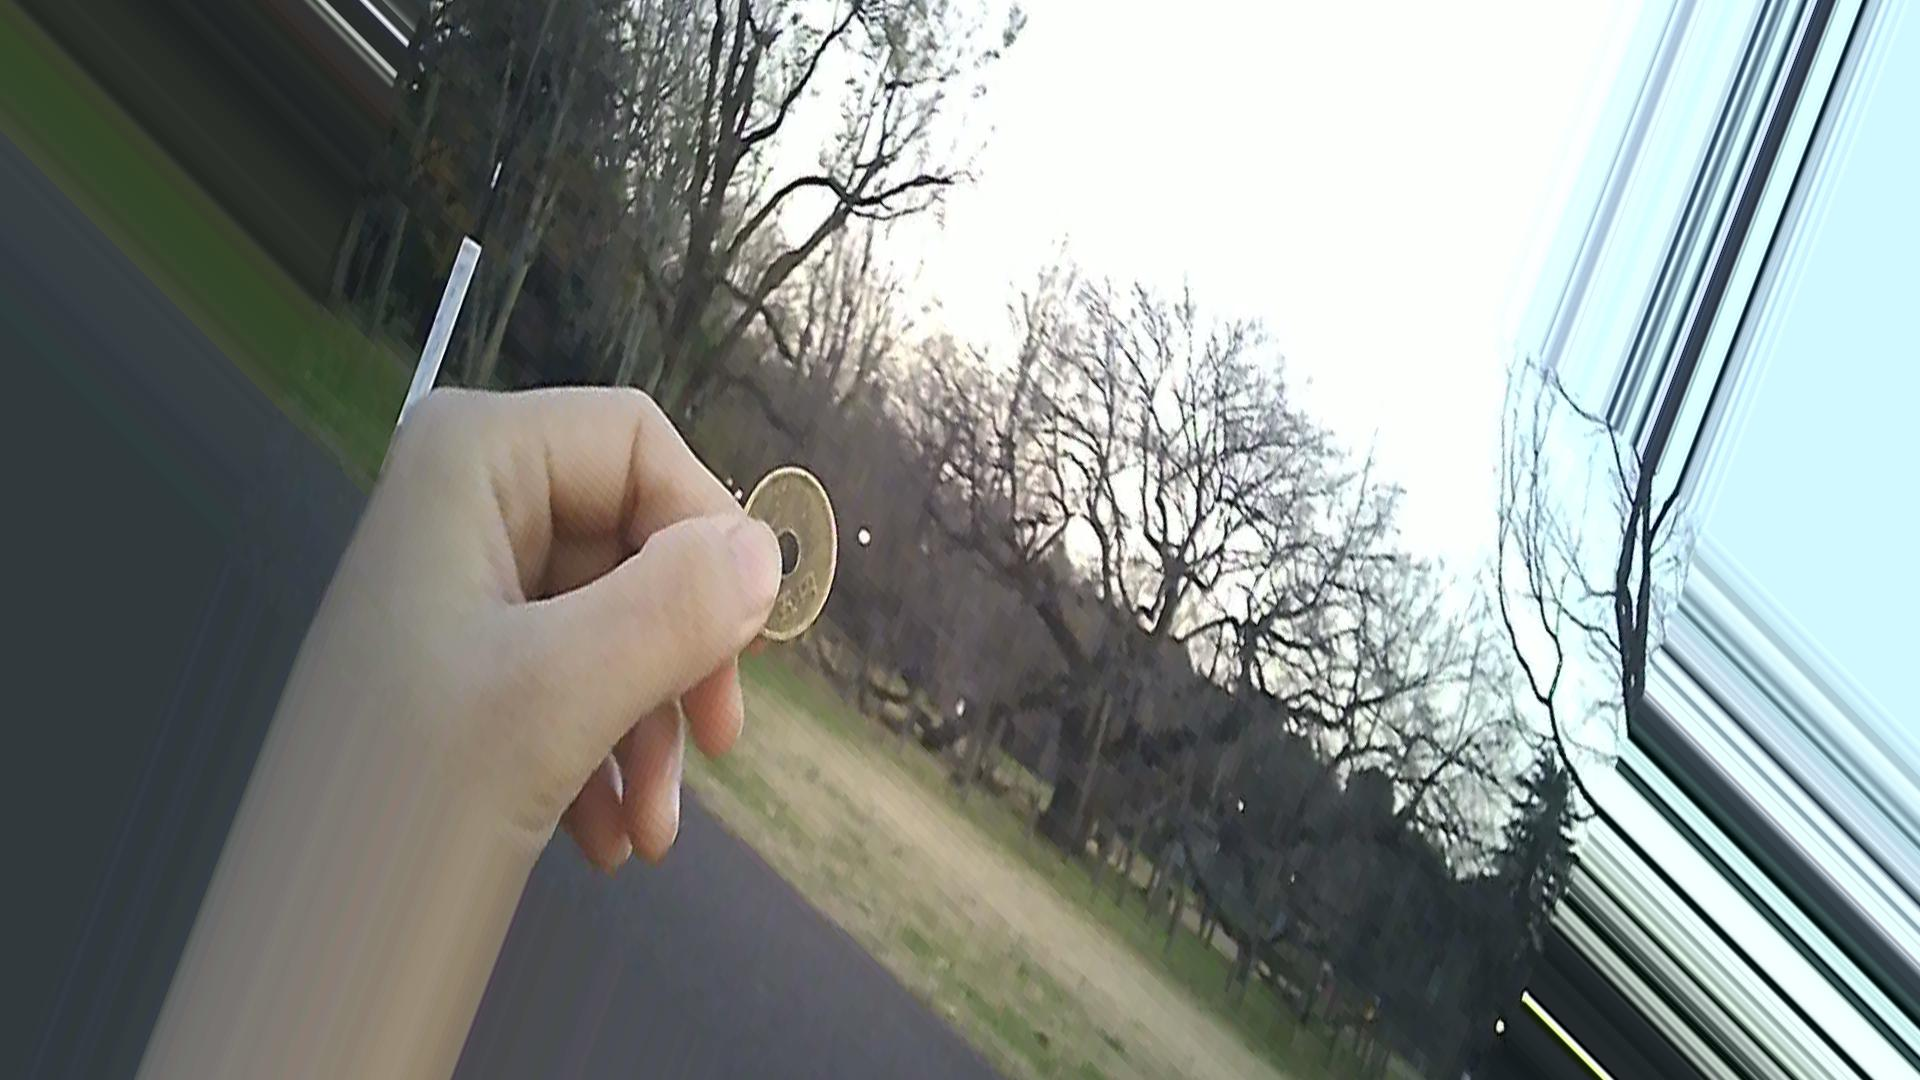5 Yen: (723, 462, 858, 680)
